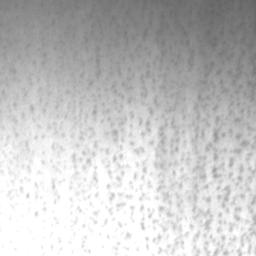Pitted surface: (70, 30, 256, 256), (13, 94, 67, 123), (23, 144, 63, 173), (143, 23, 171, 62), (8, 180, 38, 198), (35, 123, 64, 139), (115, 232, 131, 250)
